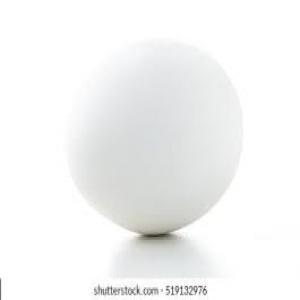Egg: (61, 34, 246, 237)
